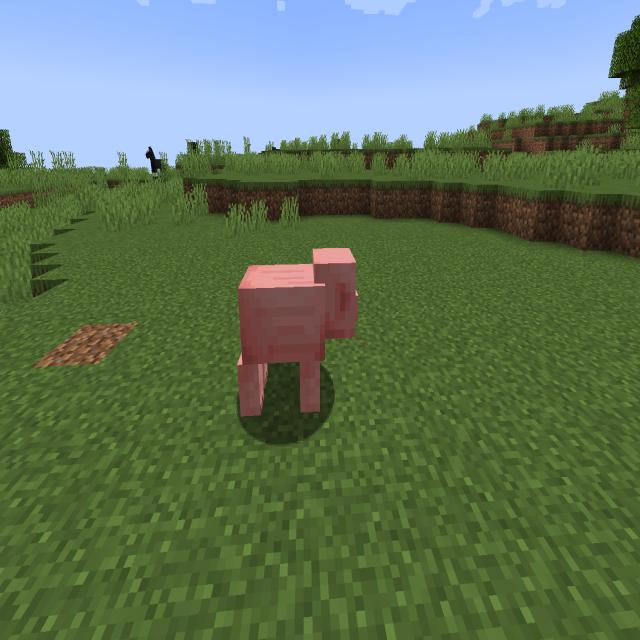pig: (228, 227, 371, 455)
